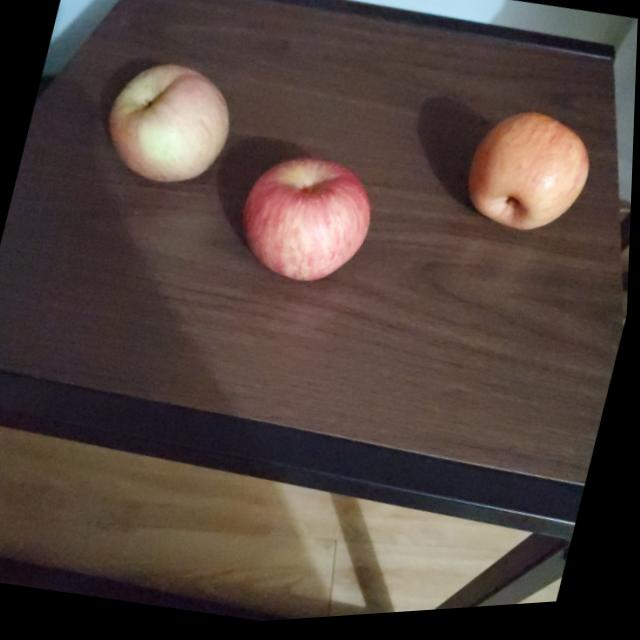apple: (231, 149, 385, 300), (96, 56, 242, 201), (458, 111, 599, 253)
